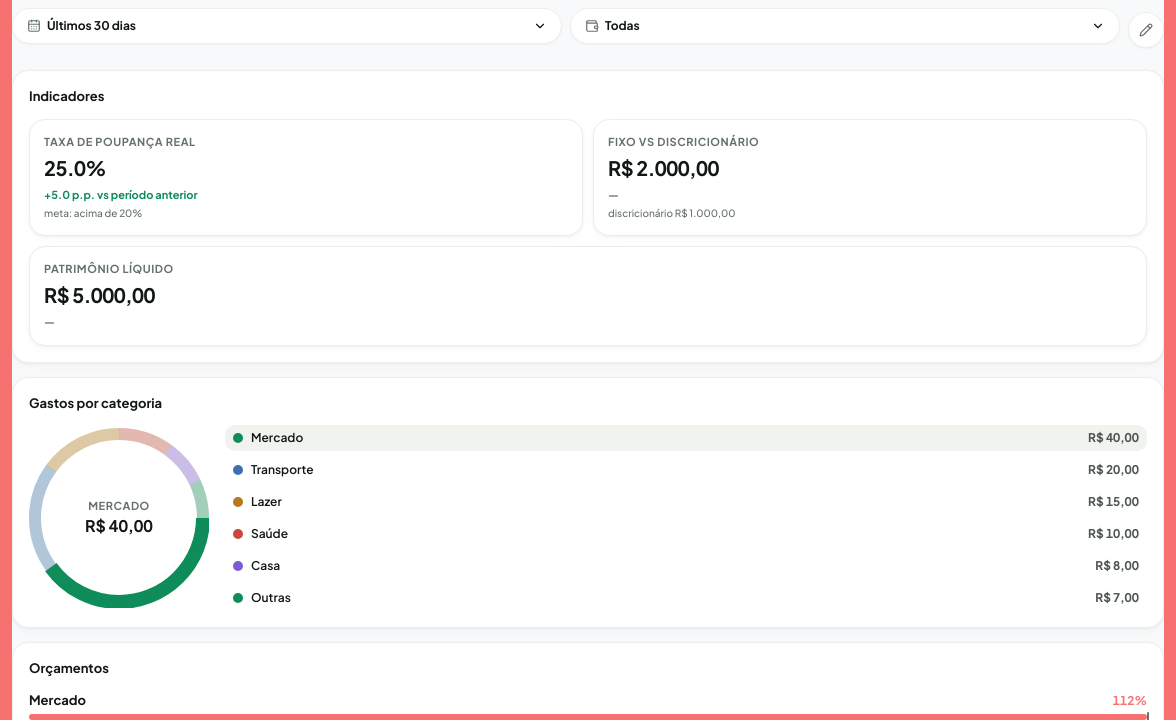
Test case: ReportsAnalyticsZone › toque na fatia mostra o valor no centro
Expected: the element with test id "reports-kpi-grid" is shown, [29,118,1147,346]
Click the button "Transporte R$ 20,00" at (282, 470), box [225,457,1147,483]
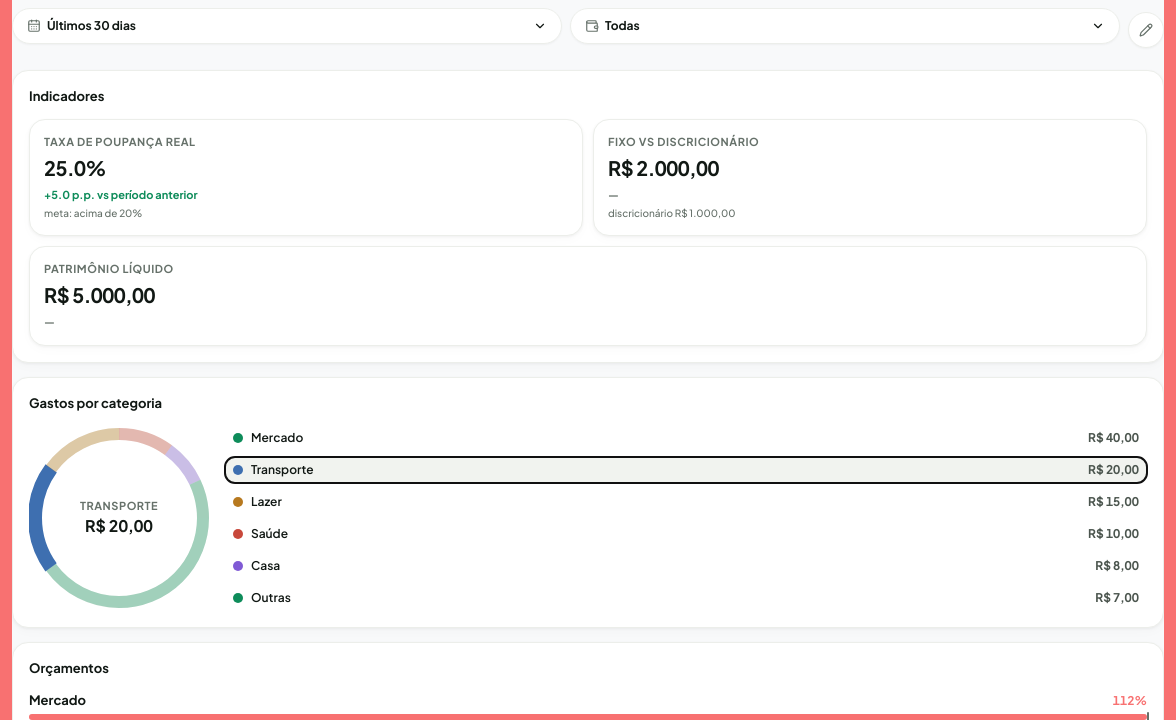
Now the text with test id "donut-center-value" reads "R$ 20,00", box [85,515,153,536]
